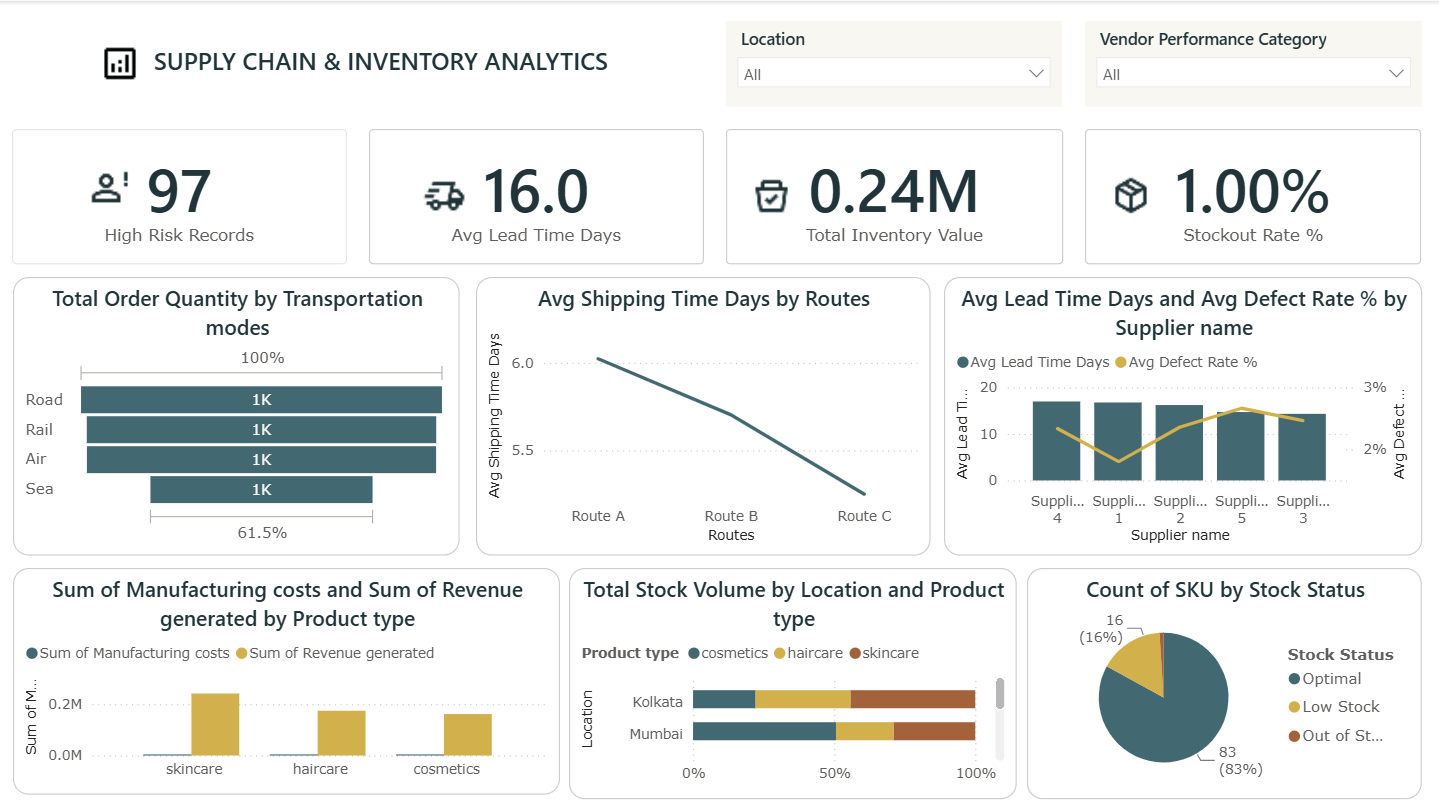

The page's visual inventory and layout, read from the dashboard file:
{"tool":"powerbi","page":{"name":"Page 1","canvas":[1280,720],"ordinal":0},"visuals":[{"type":"card","fields":{"Values":["_Measures.Total Inventory Value"]},"box":[644.7,113.2,298.8,119.5],"z":0},{"type":"card","fields":{"Values":["_Measures.Stockout Rate %"]},"box":[963.3,113.3,298.3,120],"z":1000},{"type":"card","fields":{"Values":["_Measures.Avg Lead Time Days"]},"box":[328.3,113.3,296.7,120],"z":2000},{"type":"card","fields":{"Values":["_Measures.High Risk Vendor Count"]},"box":[11.7,113.3,296.7,120],"z":3000},{"type":"lineStackedColumnComboChart","fields":{"Category":["supply_chain_data.Supplier name"],"Y":["_Measures.Avg Lead Time Days"],"Y2":["_Measures.Avg Defect Rate %"]},"box":[837.9,244.7,423.8,247.4],"z":4000},{"type":"funnel","fields":{"Category":["supply_chain_data.Transportation modes"],"Y":["_Measures.Total Order Quantity"]},"box":[12.4,244.7,396.4,247.4],"z":5000},{"type":"hundredPercentStackedBarChart","fields":{"Category":["supply_chain_data.Location"],"Series":["supply_chain_data.Product type"],"Y":["_Measures.Total Stock Volume"]},"box":[505.4,502.8,397.2,204.8],"z":6000},{"type":"lineChart","fields":{"Category":["supply_chain_data.Routes"],"Y":["_Measures.Avg Shipping Time Days"]},"box":[423,244.7,402.6,247.4],"z":7000},{"type":"slicer","fields":{"Values":["supply_chain_data.Location"]},"box":[644.6,17.7,297.9,76.3],"z":8000},{"type":"slicer","fields":{"Values":["supply_chain_data.Vendor Performance Category"]},"box":[963,17.7,298.8,76.3],"z":9000},{"type":"pieChart","fields":{"Category":["supply_chain_data.Stock Status"],"Y":["CountNonNull(supply_chain_data.SKU)"]},"box":[911.5,502.8,350.2,204.8],"z":10000},{"type":"lineClusteredColumnComboChart","fields":{"Category":["supply_chain_data.Product type"],"Y":["Sum(supply_chain_data.Manufacturing costs)","Sum(supply_chain_data.Revenue generated)"]},"box":[12.4,502.8,485,201.3],"z":11000},{"type":"textbox","box":[100.2,32.8,477,48.8],"z":12000},{"type":"image","box":[657,149,55.9,47.9],"z":14002},{"type":"image","box":[976.3,149,55,47],"z":14003},{"type":"image","box":[79.8,31.9,55.9,47],"z":14006},{"type":"image","box":[71.8,141.9,56.7,47.9],"z":14007},{"type":"image","box":[367.1,149,55.9,47.9],"z":14008}]}

Visuals, with their boxes in screenshot pixels (x1, y1, x2, y2), scaled from the page's 1280x720 canvas onto the 1439x810 screenshot:
card - _Measures.Total Inventory Value: crop(725, 127, 1061, 262)
card - _Measures.Stockout Rate %: crop(1083, 127, 1418, 262)
card - _Measures.Avg Lead Time Days: crop(369, 127, 703, 262)
card - _Measures.High Risk Vendor Count: crop(13, 127, 347, 262)
lineStackedColumnComboChart - supply_chain_data.Supplier name x _Measures.Avg Lead Time Days: crop(942, 275, 1418, 554)
funnel - supply_chain_data.Transportation modes x _Measures.Total Order Quantity: crop(14, 275, 460, 554)
hundredPercentStackedBarChart - supply_chain_data.Location x supply_chain_data.Product type: crop(568, 566, 1015, 796)
lineChart - supply_chain_data.Routes x _Measures.Avg Shipping Time Days: crop(476, 275, 928, 554)
slicer - supply_chain_data.Location: crop(725, 20, 1060, 106)
slicer - supply_chain_data.Vendor Performance Category: crop(1083, 20, 1419, 106)
pieChart - supply_chain_data.Stock Status x CountNonNull(supply_chain_data.SKU): crop(1025, 566, 1418, 796)
lineClusteredColumnComboChart - supply_chain_data.Product type x Sum(supply_chain_data.Manufacturing costs): crop(14, 566, 559, 792)
textbox: crop(113, 37, 649, 92)
image: crop(739, 168, 801, 222)
image: crop(1098, 168, 1159, 220)
image: crop(90, 36, 153, 89)
image: crop(81, 160, 144, 214)
image: crop(413, 168, 476, 222)
